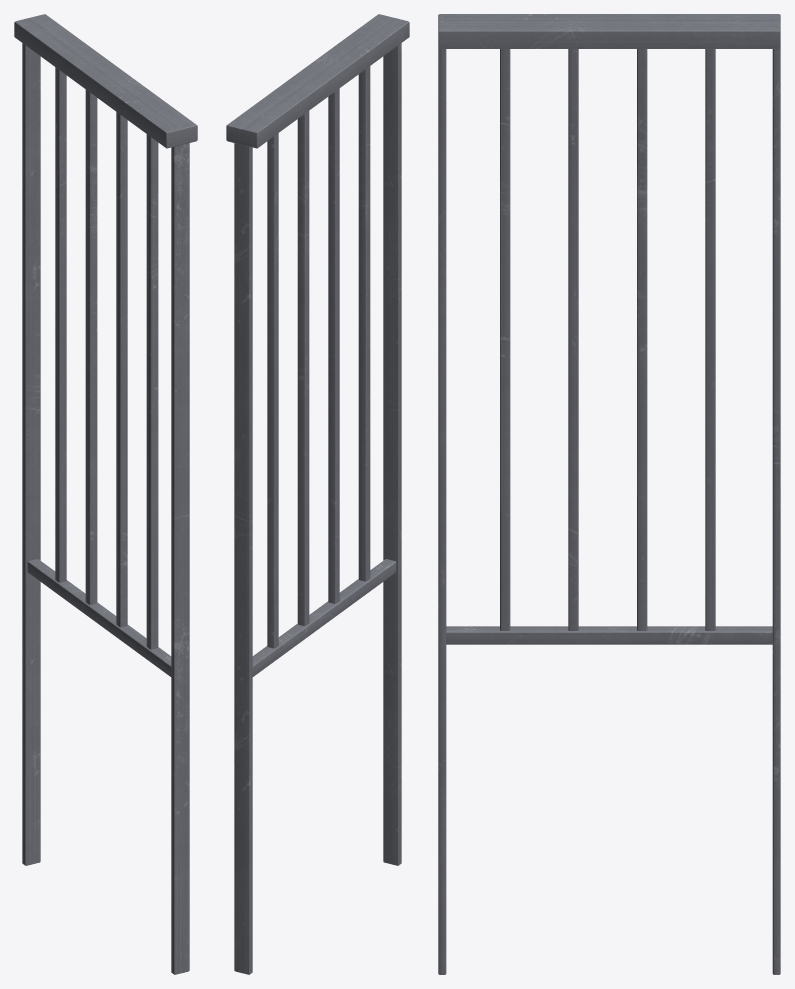
Rendered from fence.obj.
3 views of the same model, side by side, from view 1: azimuth 30°, elevation 25°; view 2: azimuth 150°, elevation 25°; view 3: azimuth 270°, elevation 25° (orthographic). The views are drawn at different scales.
Parts seen in each view (by area): view 1: fence; view 2: fence; view 3: fence.
Part boxes in pixels (x1,y1,x2,y2): fence: (14, 14, 197, 974); fence: (226, 14, 409, 974); fence: (438, 14, 780, 974).
Bounding box in the file's own units: 0.06 × 1.53 × 0.5.
1 material, 1 textured.
